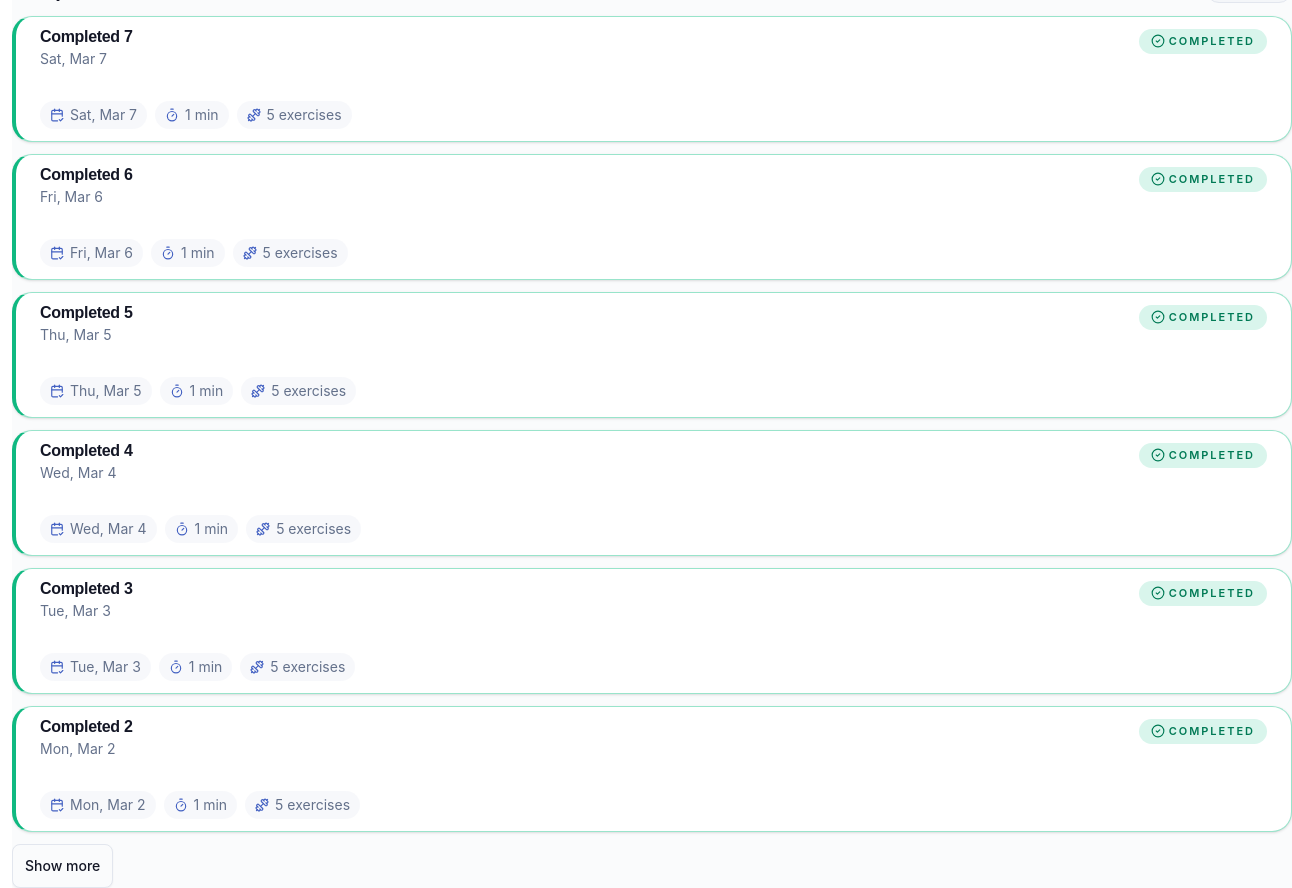
WorkoutList › reveals more completed workouts when clicking show more
(page scrolled)
Expected: the text "Completed 1" is not shown
Step 1. Click the button "Show more" → (63, 866), box [12,844,113,887]
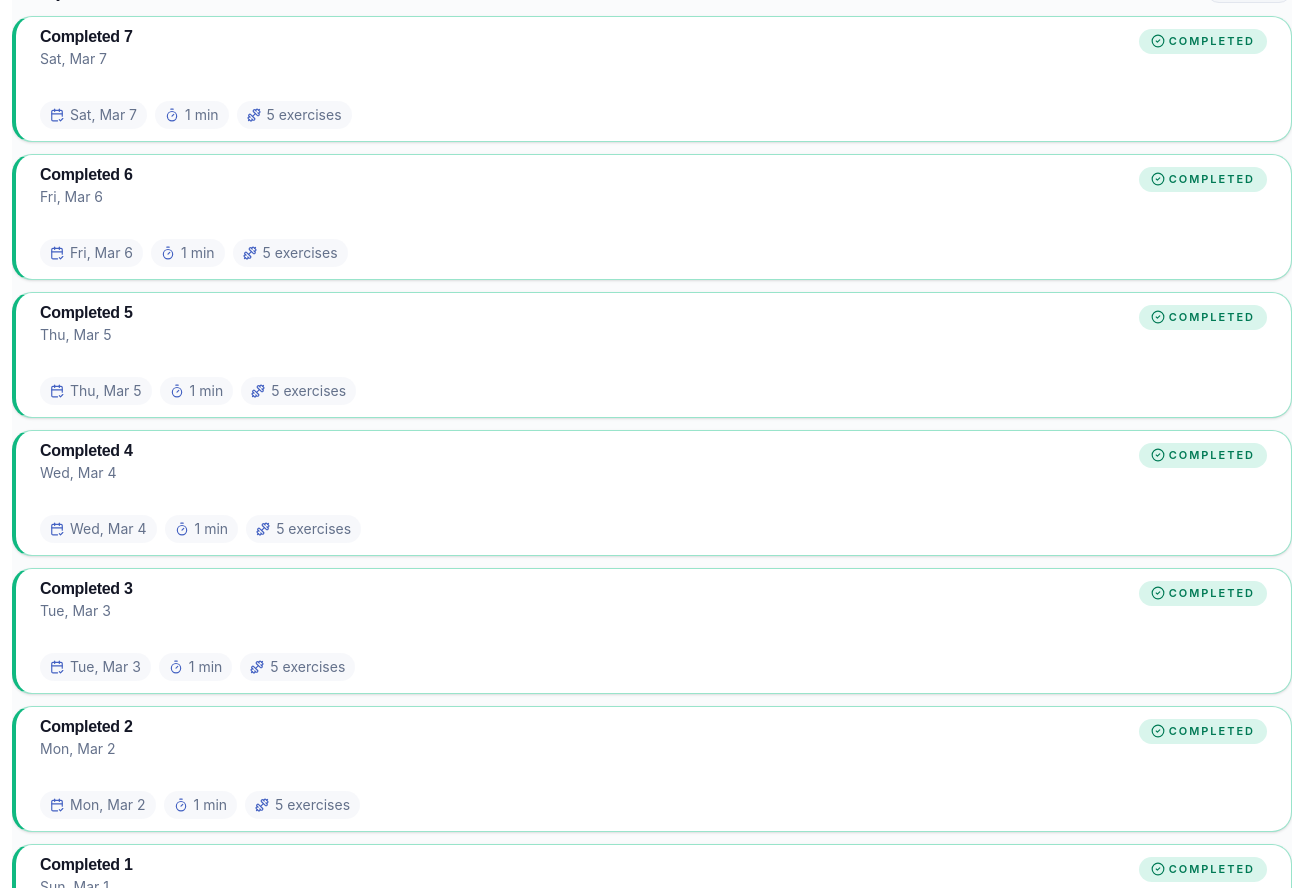
Expected: the text "Completed 1" is shown, [40,857,132,873]
